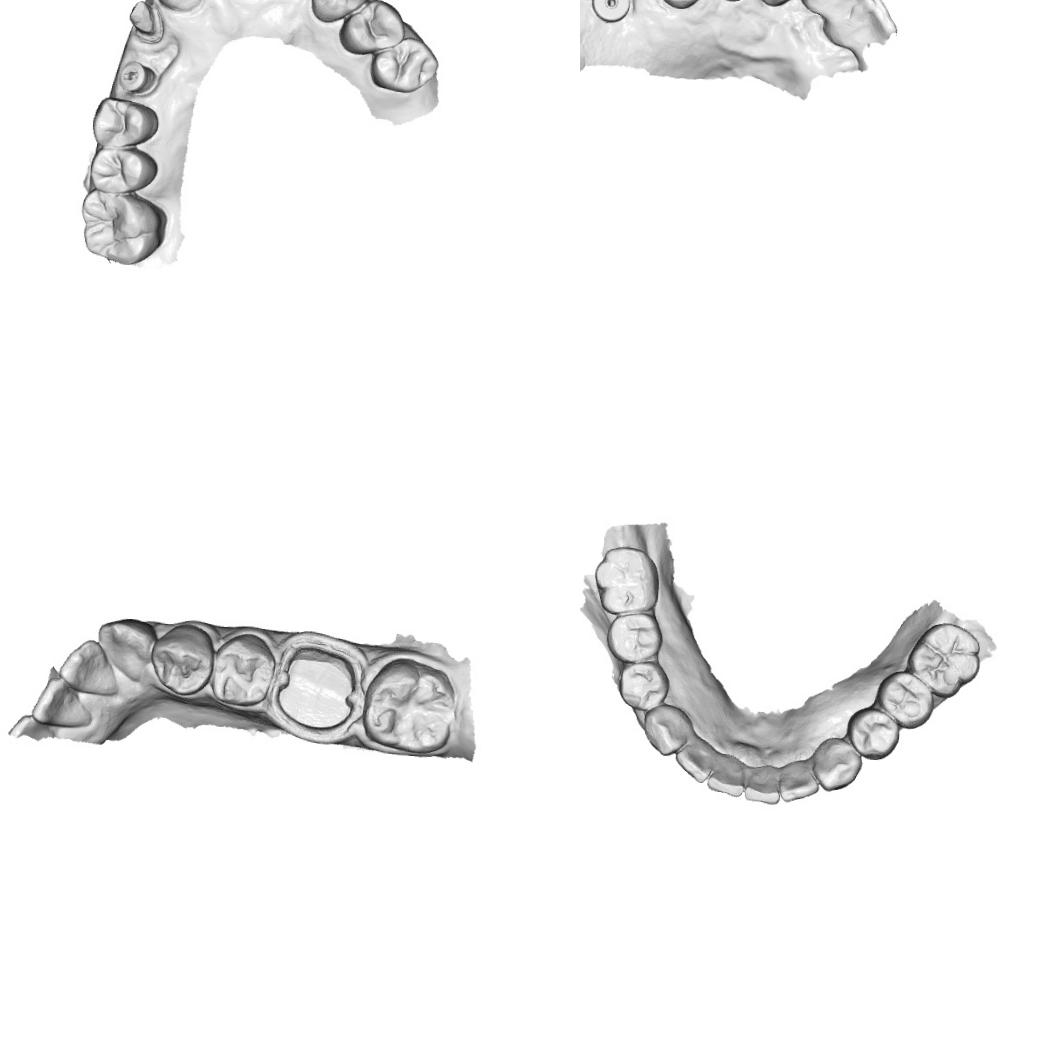canine: (93, 614, 158, 686), (808, 734, 862, 792), (641, 701, 693, 758), (306, 0, 364, 23)
crown: (272, 641, 360, 734), (115, 0, 171, 46)
implant: (588, 0, 631, 23)
implant_minus: (115, 55, 156, 97)
incisor: (820, 0, 901, 52), (54, 636, 120, 698), (29, 673, 96, 731), (672, 735, 716, 784), (705, 752, 749, 797), (778, 759, 820, 804), (742, 762, 781, 806), (796, 0, 858, 18)
molar: (359, 654, 459, 756), (77, 187, 169, 270), (903, 618, 984, 702), (590, 543, 662, 617)
premolar: (207, 630, 277, 710), (148, 620, 216, 698), (88, 94, 164, 154), (370, 34, 437, 95), (86, 144, 162, 196), (873, 667, 935, 730), (340, 0, 406, 58), (843, 704, 900, 761), (603, 610, 663, 664), (616, 658, 670, 712)
